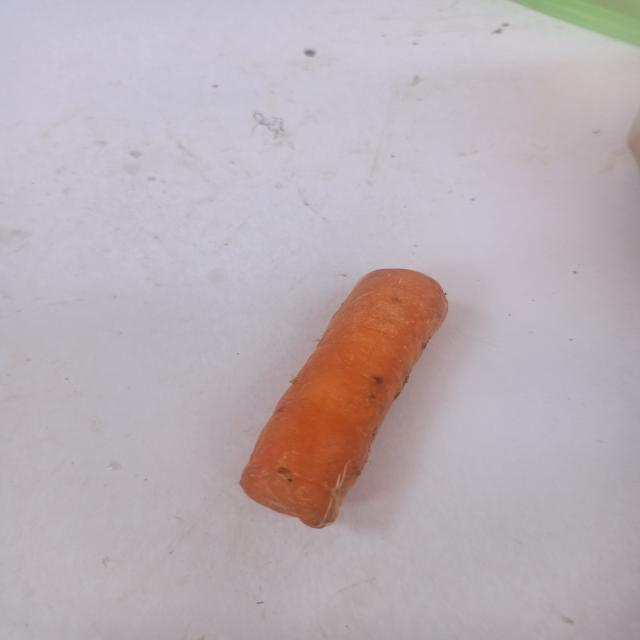Carrot: (223, 258, 461, 534)
